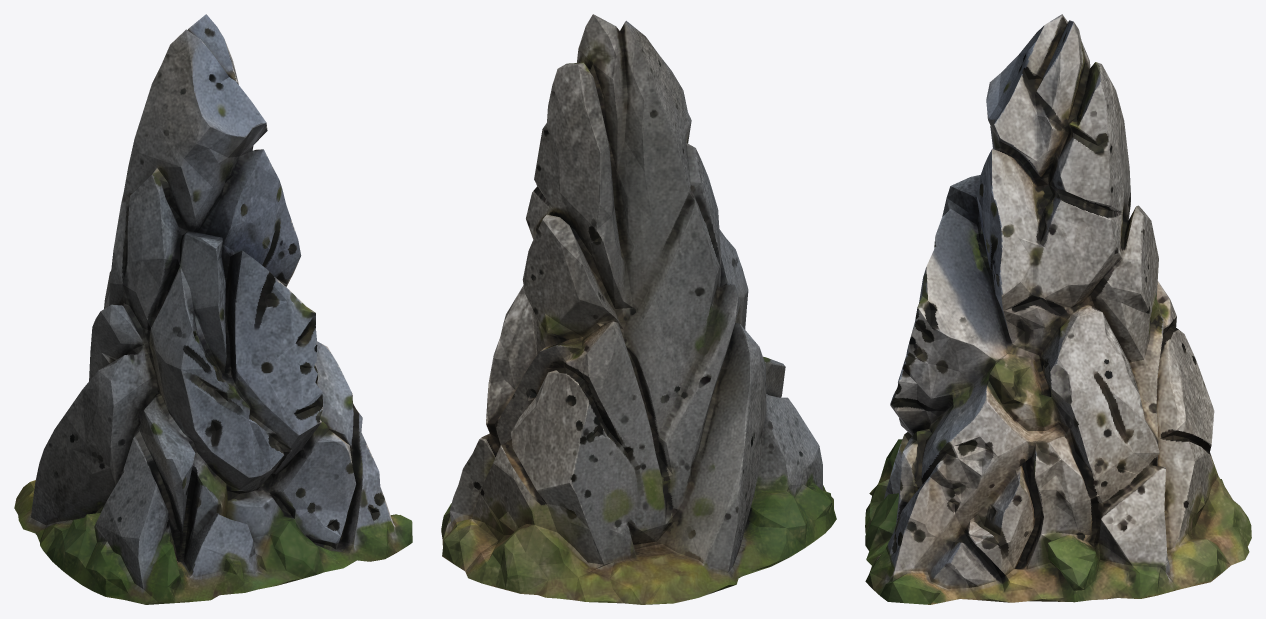
File: rock_b.fbx
3 renders of one model, left to right at view 1: azimuth 30°, elevation 25°; view 2: azimuth 150°, elevation 25°; view 3: azimuth 270°, elevation 25°, orthographic. The views are drawn at different scales.
Parts seen in each view (by area): view 1: Mesh_0; view 2: Mesh_0; view 3: Mesh_0.
Part boxes in pixels (x1,y1,x2,y2): Mesh_0: [14, 14, 412, 604]; Mesh_0: [441, 14, 836, 604]; Mesh_0: [865, 14, 1251, 604].
Size of the model in its own units: 2.22 by 3.5 by 2.36.
Materials: 1 (1 with a texture image).
